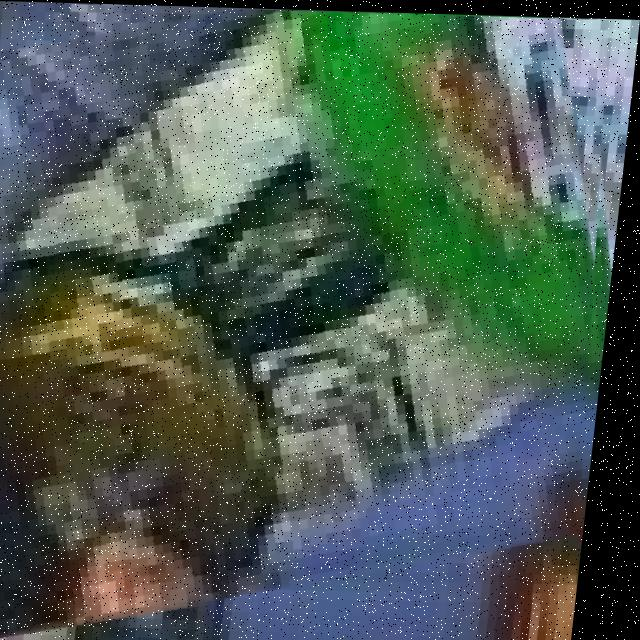litter: (0, 7, 604, 603)
